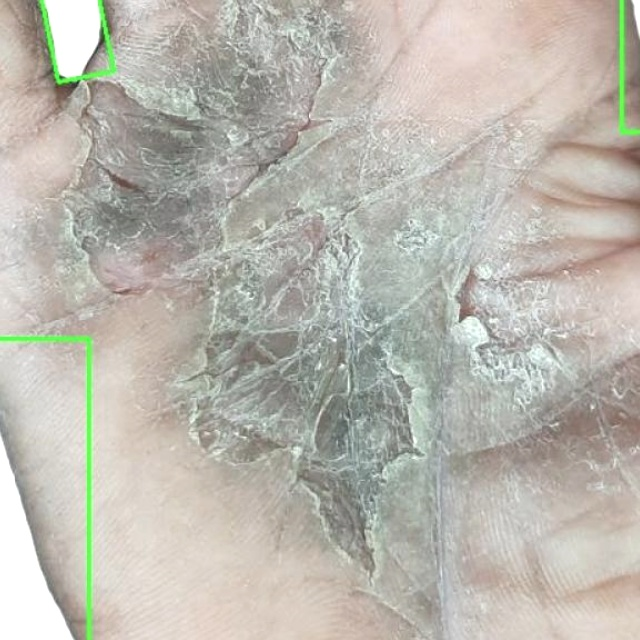Contact Dermatitis: (0, 337, 89, 639), (41, 0, 113, 82)
